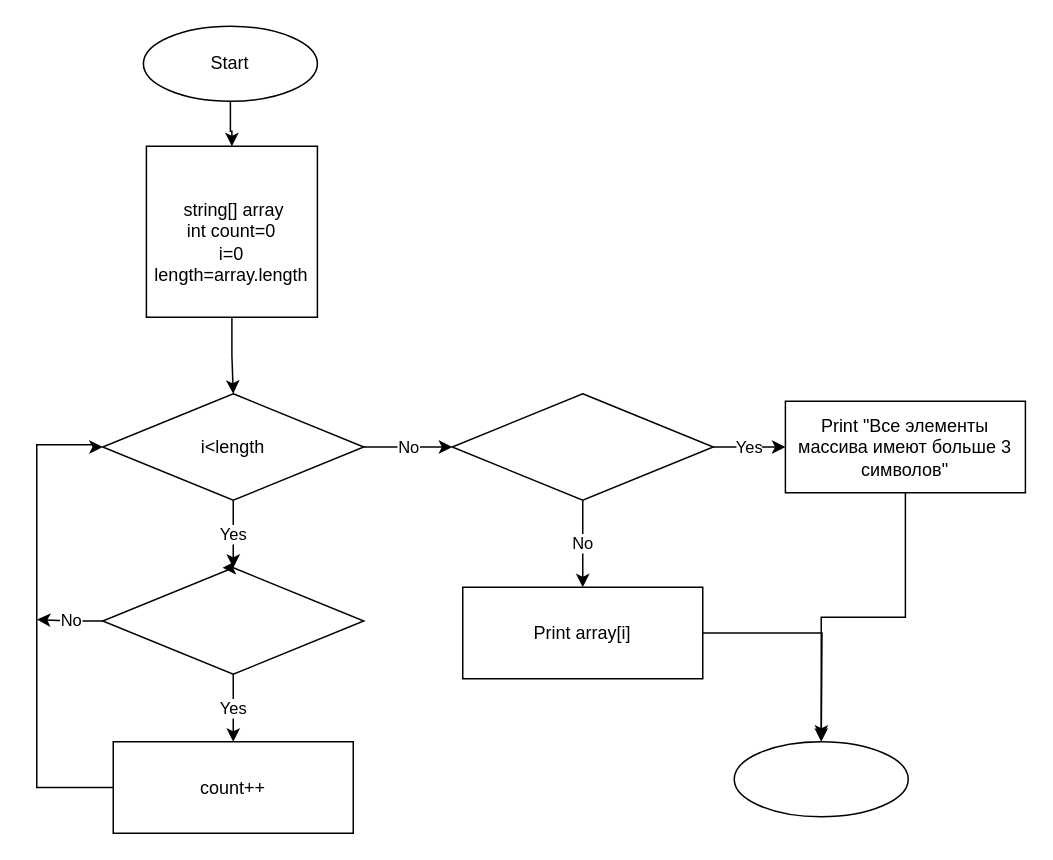
Some shapes in this 1053 by 860 pixel diagram are drawn without their labels. Each missing label, with the box of its shape:
array[i].Lenght<=3: (101, 566, 364, 674)
count==0: (451, 392, 713, 500)
End: (733, 740, 908, 817)
